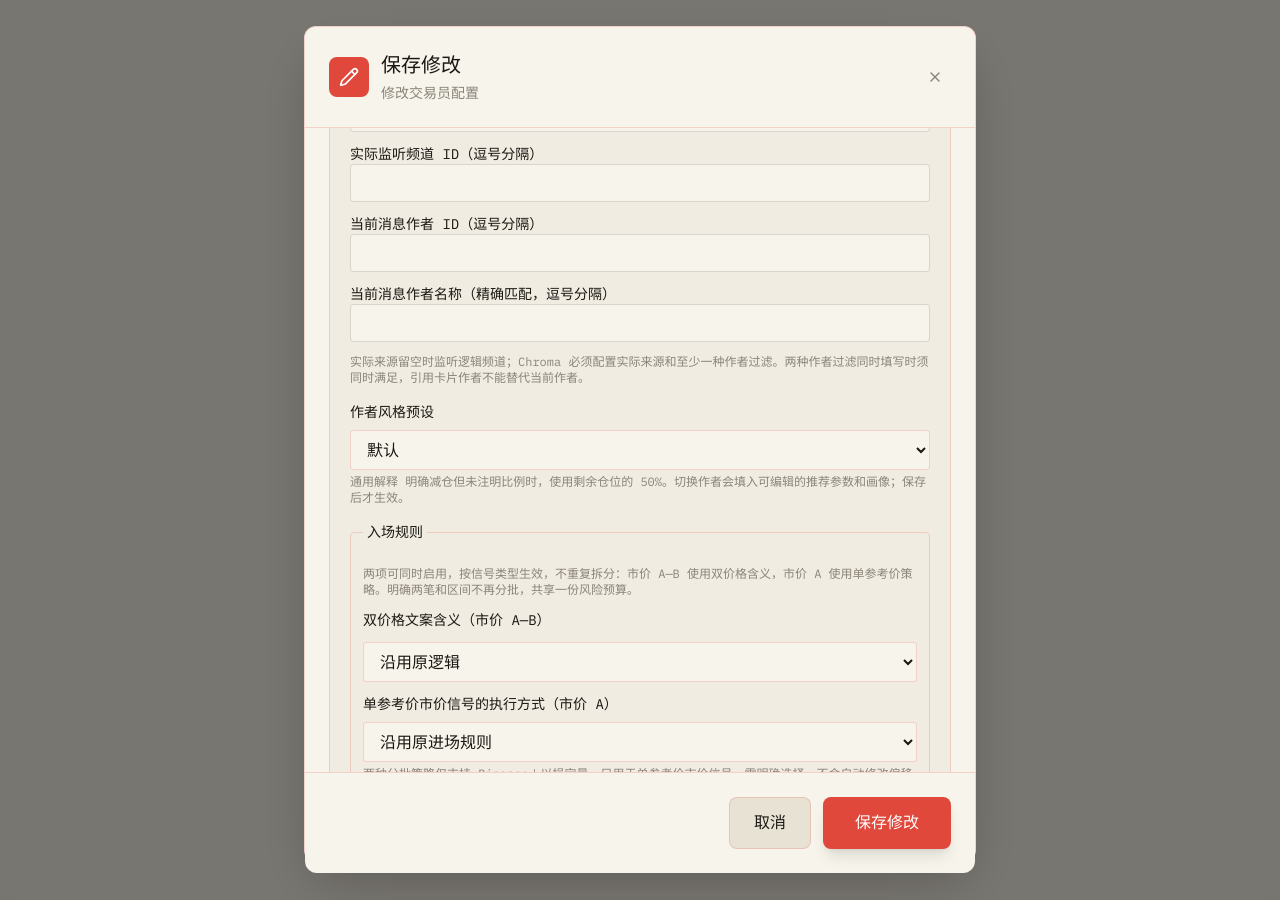
Scenario: switching author presets › replaces the profile after confirmation
The width and height of the screenshot is (1280, 900).
(page scrolled)
Select "CMM" in the dropdown labelled "作者风格预设". click: (640, 450)
box: left=350, top=430, right=930, bottom=470
(page scrolled)
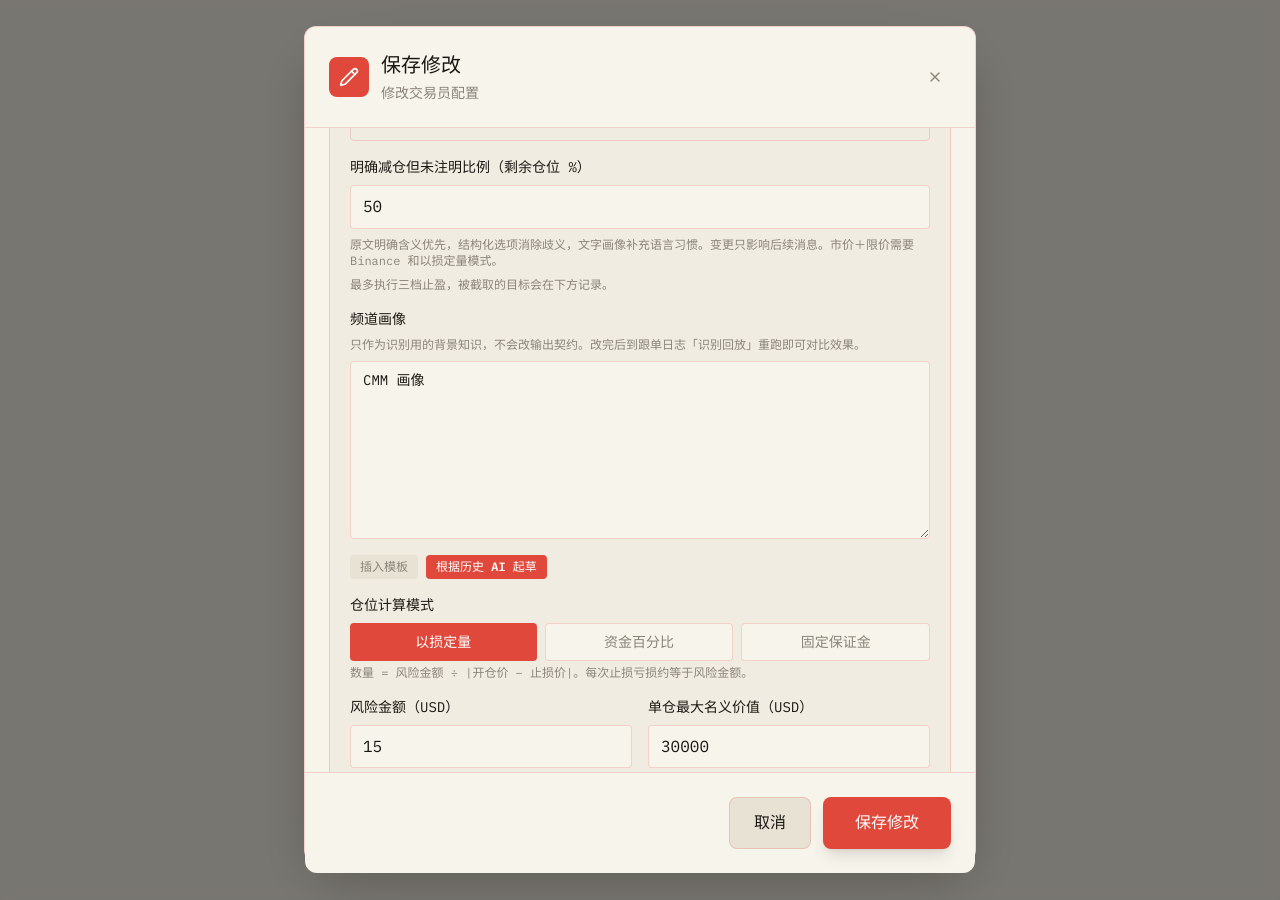
Now the text box showing "CMM 画像" is shown, box left=350, top=361, right=930, bottom=539
